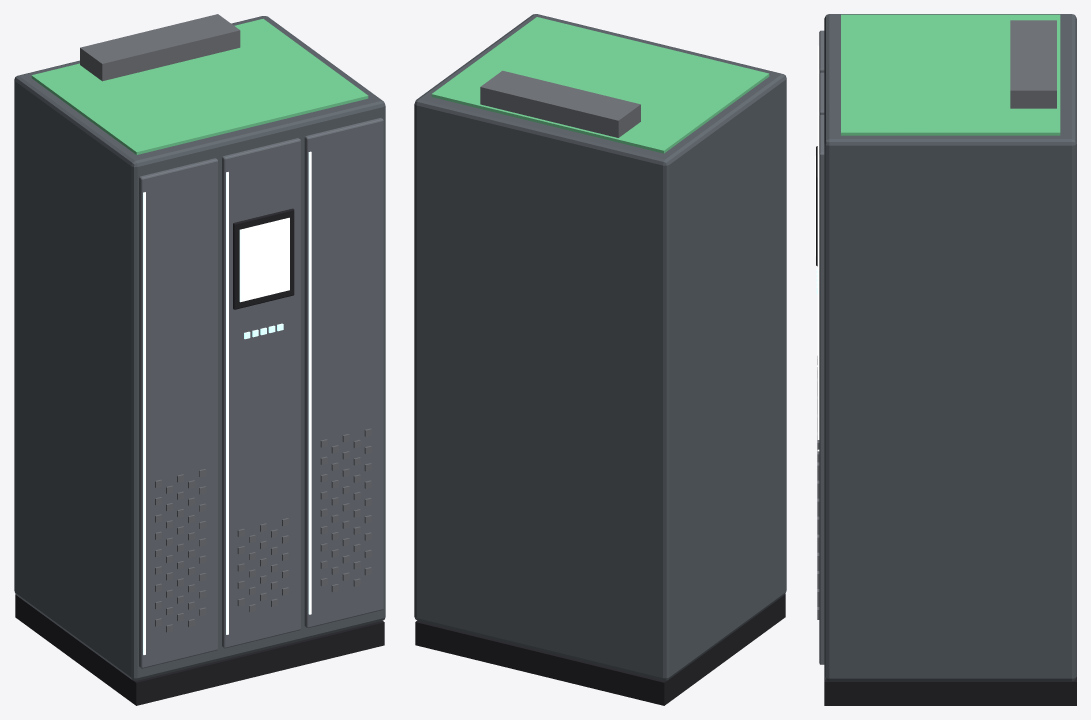
Rendered from ups_li.fbx.
3 views of the same model, side by side, from view 1: azimuth 30°, elevation 25°; view 2: azimuth 150°, elevation 25°; view 3: azimuth 270°, elevation 25° (orthographic). The views are drawn at different scales.
Visible parts, largest first — view 1: ups_li; view 2: ups_li; view 3: ups_li.
Part boxes in pixels (left/top/right/bottom): ups_li: left=14, top=14, right=385, bottom=705; ups_li: left=414, top=14, right=786, bottom=705; ups_li: left=815, top=14, right=1076, bottom=705.
Size of the model in its own units: 0.92 by 1.95 by 0.788.
